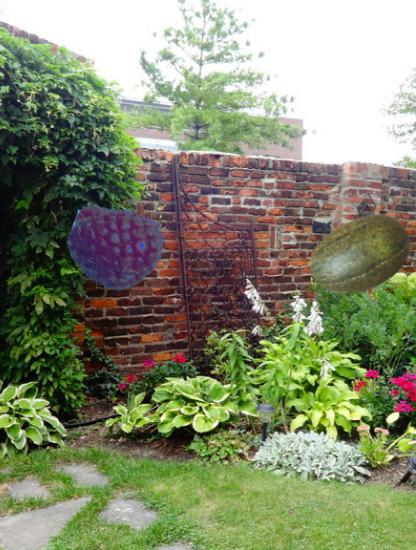Melon: (308, 203, 416, 311)
Raspberry: (68, 200, 164, 296)
